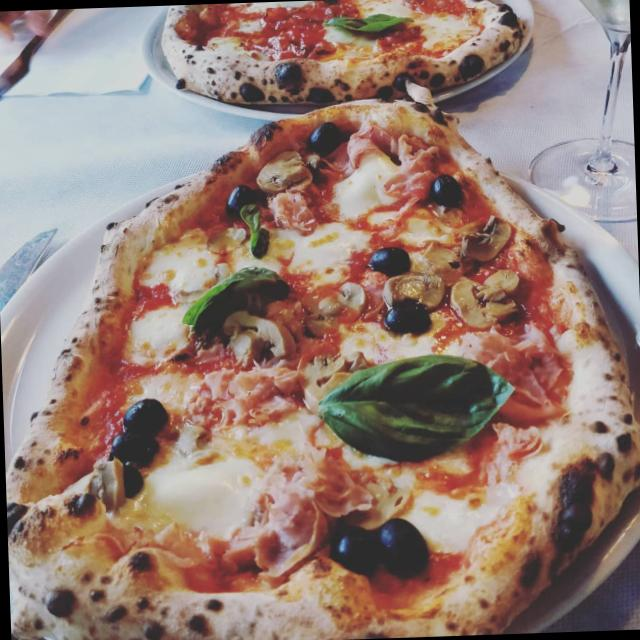black_olives: (374, 512, 432, 584), (328, 518, 382, 580), (99, 429, 167, 474), (118, 393, 175, 442), (382, 296, 430, 342), (365, 243, 414, 284), (428, 170, 466, 213), (222, 182, 260, 217), (306, 121, 341, 158)
mushrooms: (221, 305, 298, 368), (449, 269, 524, 331), (300, 352, 372, 407), (255, 144, 312, 206), (82, 455, 129, 517), (460, 212, 516, 264), (384, 270, 446, 314), (315, 280, 367, 326)
pizza: (5, 100, 640, 640), (160, 0, 528, 109)
